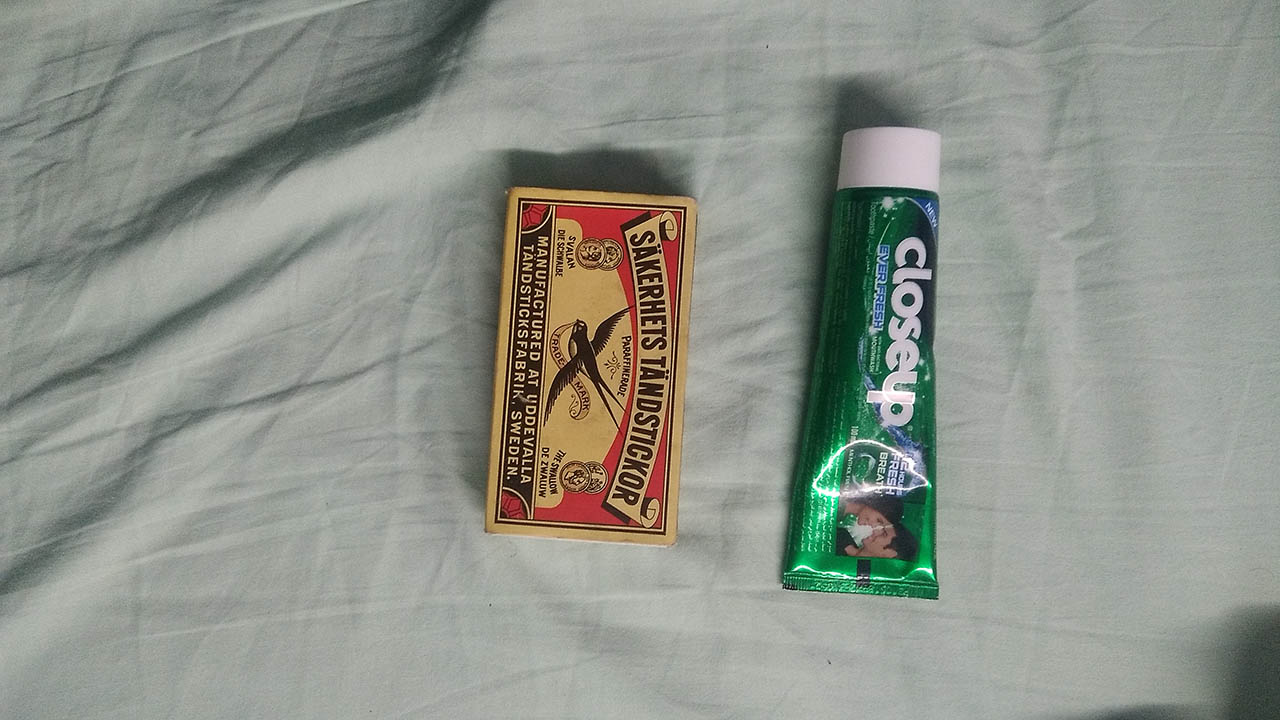Toothpaste-Closeup 3.04$: (789, 105, 958, 612)
match-sticks .90$: (484, 172, 693, 568)
